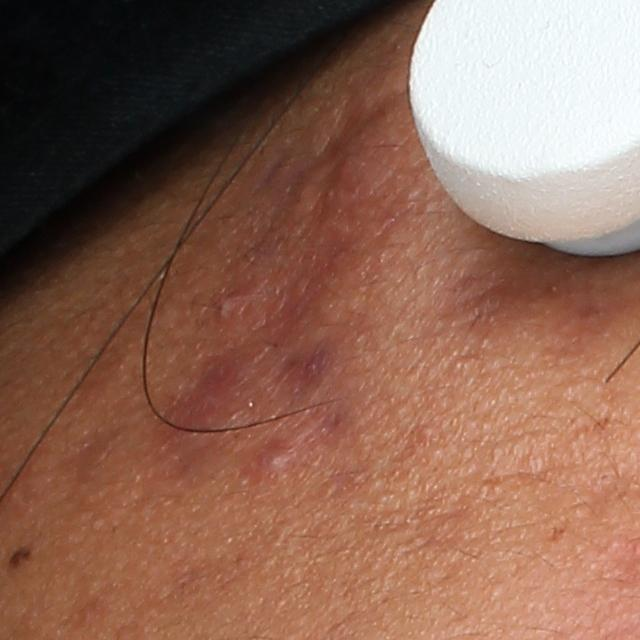nevus: (4, 536, 32, 564)
papule: (255, 434, 299, 483)
